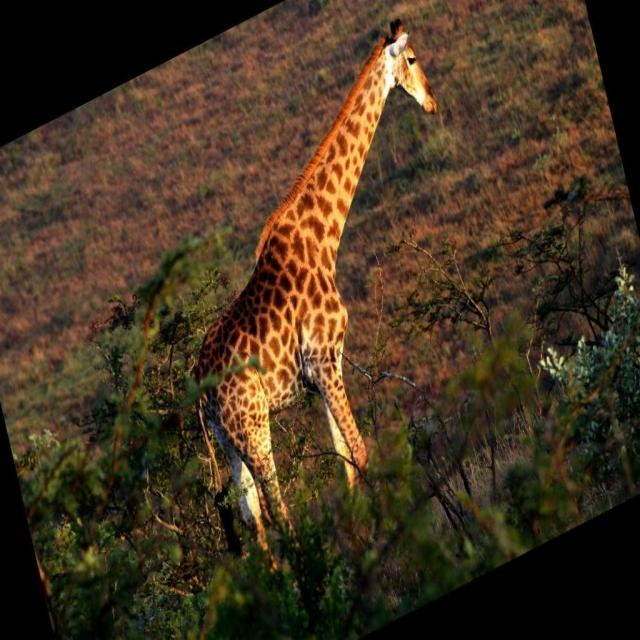Giraffe: (164, 8, 456, 556)
